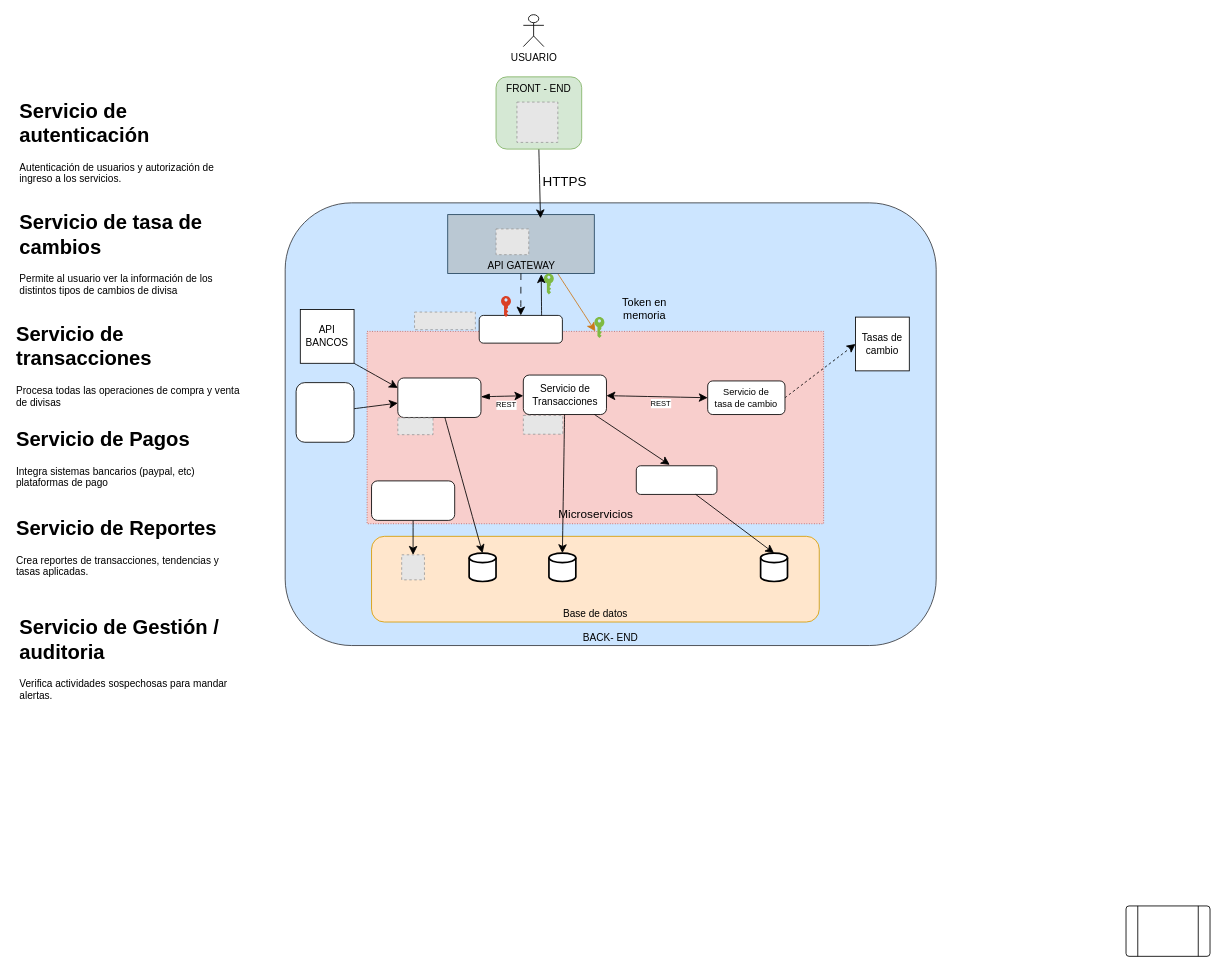
Some shapes in this 1225 by 971 pixel diagram are drawn without their labels. Grey dashed boxes stand in for pictures. Each missing label, with the centre of its shape:
"API Facturación electrónica" belongs at point (324, 412).
"Seguridad JWT Usuarios" belongs at point (520, 329).
"Servicio de Gestión /auditoria" belongs at point (413, 500).
"Servicio de Pagos" belongs at point (439, 397).
"Servicio de reportes" belongs at point (676, 479).
